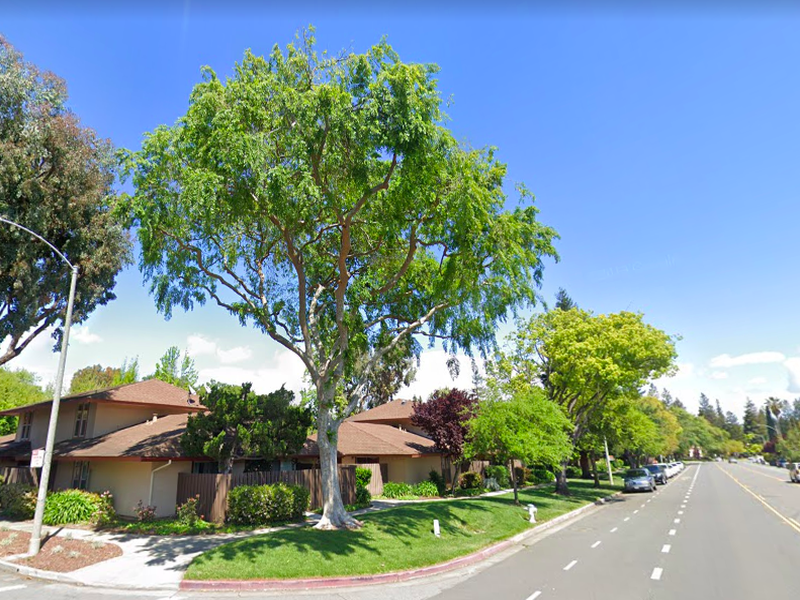tree: (104, 23, 562, 532)
